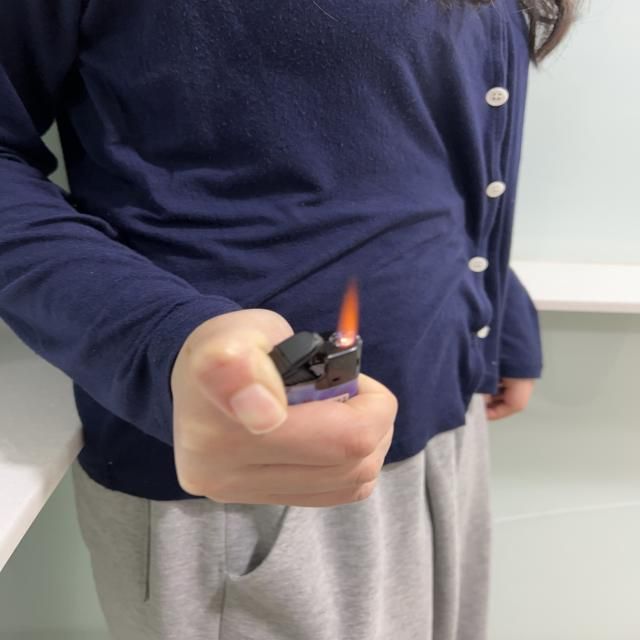fire: (333, 270, 363, 346)
